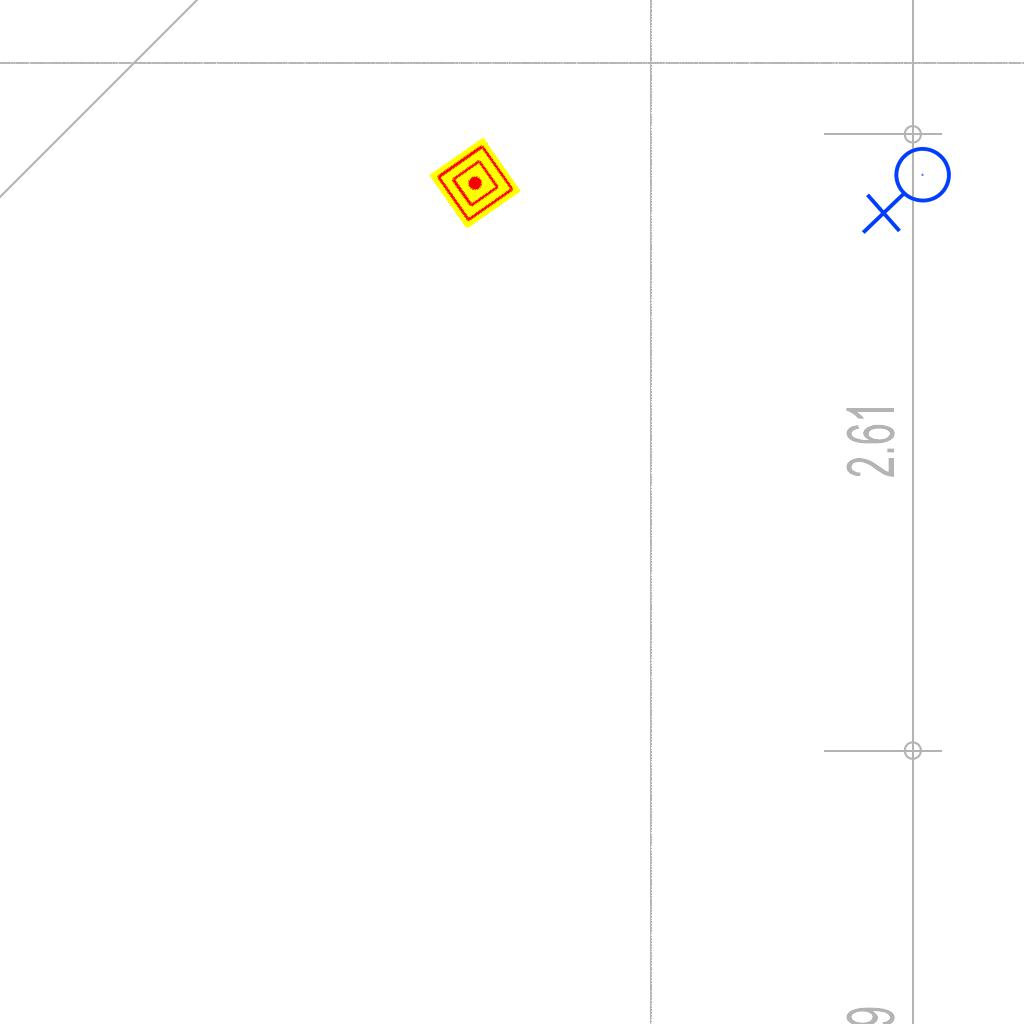Elektroanschluss_allgemein_230V_Geraeteanschlussdose_230V: (861, 145, 960, 239)
NAM-Nichtautomatischer_Melder: (429, 137, 521, 229)
